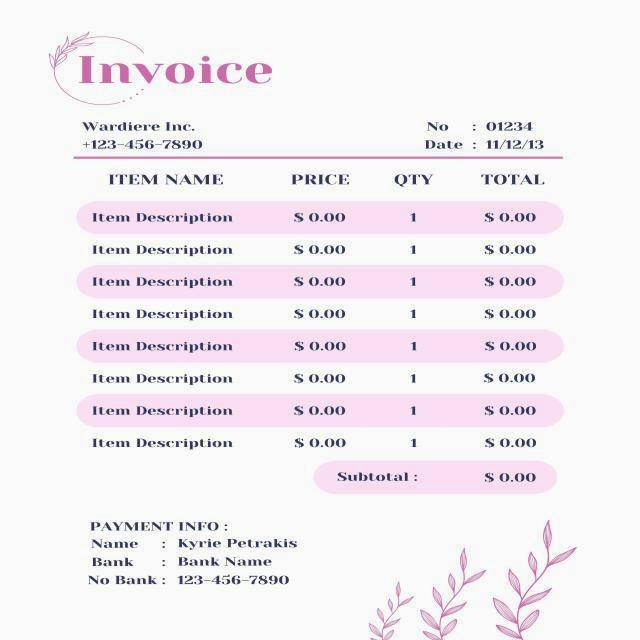paragraph: (82, 512, 305, 594), (73, 45, 281, 95), (73, 113, 211, 154), (417, 113, 550, 155), (328, 464, 541, 490)
table: (82, 164, 553, 457)
